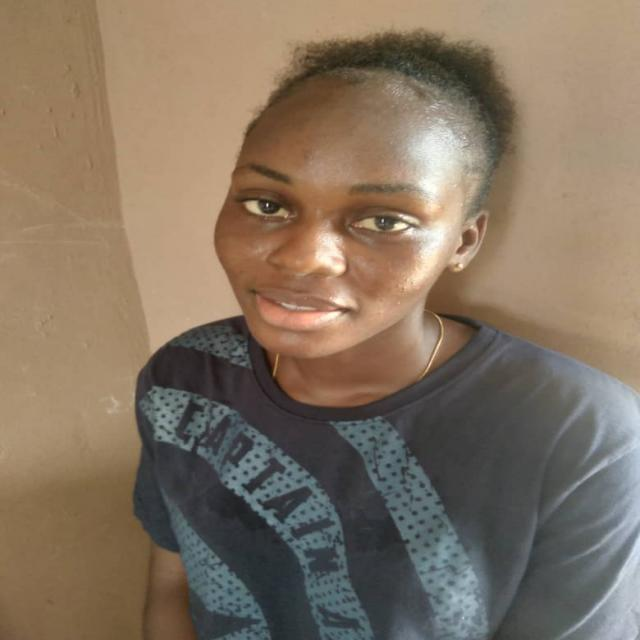happy: (209, 68, 486, 364)
